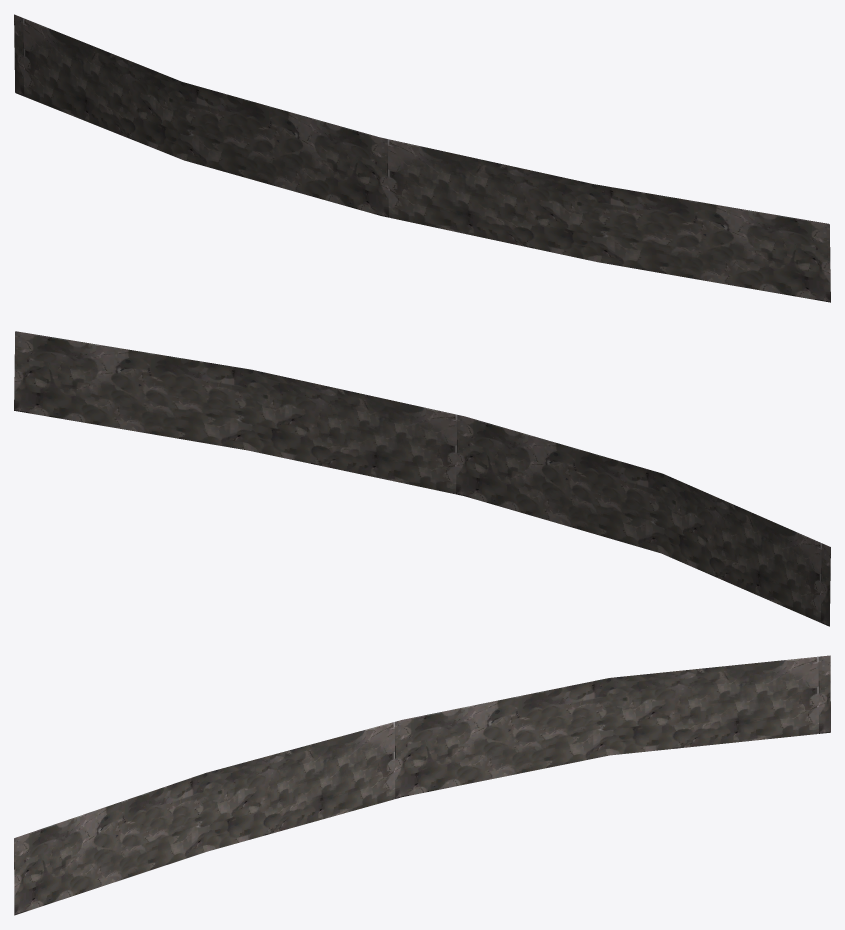
Rendered from CH09_SMAUG_PLAYSURFACE_LAIR20.fbx.
The picture shows the model from 3 angles, top to bottom: view 1: azimuth 30°, elevation 25°; view 2: azimuth 210°, elevation 25°; view 3: azimuth 270°, elevation 25°; orthographic projection. The views are drawn at different scales.
Visible parts, largest first — view 1: CH09_SMAUG_PLAYSURFACE_LAIR20; view 2: CH09_SMAUG_PLAYSURFACE_LAIR20; view 3: CH09_SMAUG_PLAYSURFACE_LAIR20.
Boxes of the visible parts, left/top/right/bottom form: CH09_SMAUG_PLAYSURFACE_LAIR20: left=14, top=14, right=830, bottom=302; CH09_SMAUG_PLAYSURFACE_LAIR20: left=14, top=331, right=830, bottom=626; CH09_SMAUG_PLAYSURFACE_LAIR20: left=14, top=655, right=830, bottom=915.
Bounding box in the file's own units: 79896 × 16050 × 147871.
1 material, 1 textured.
